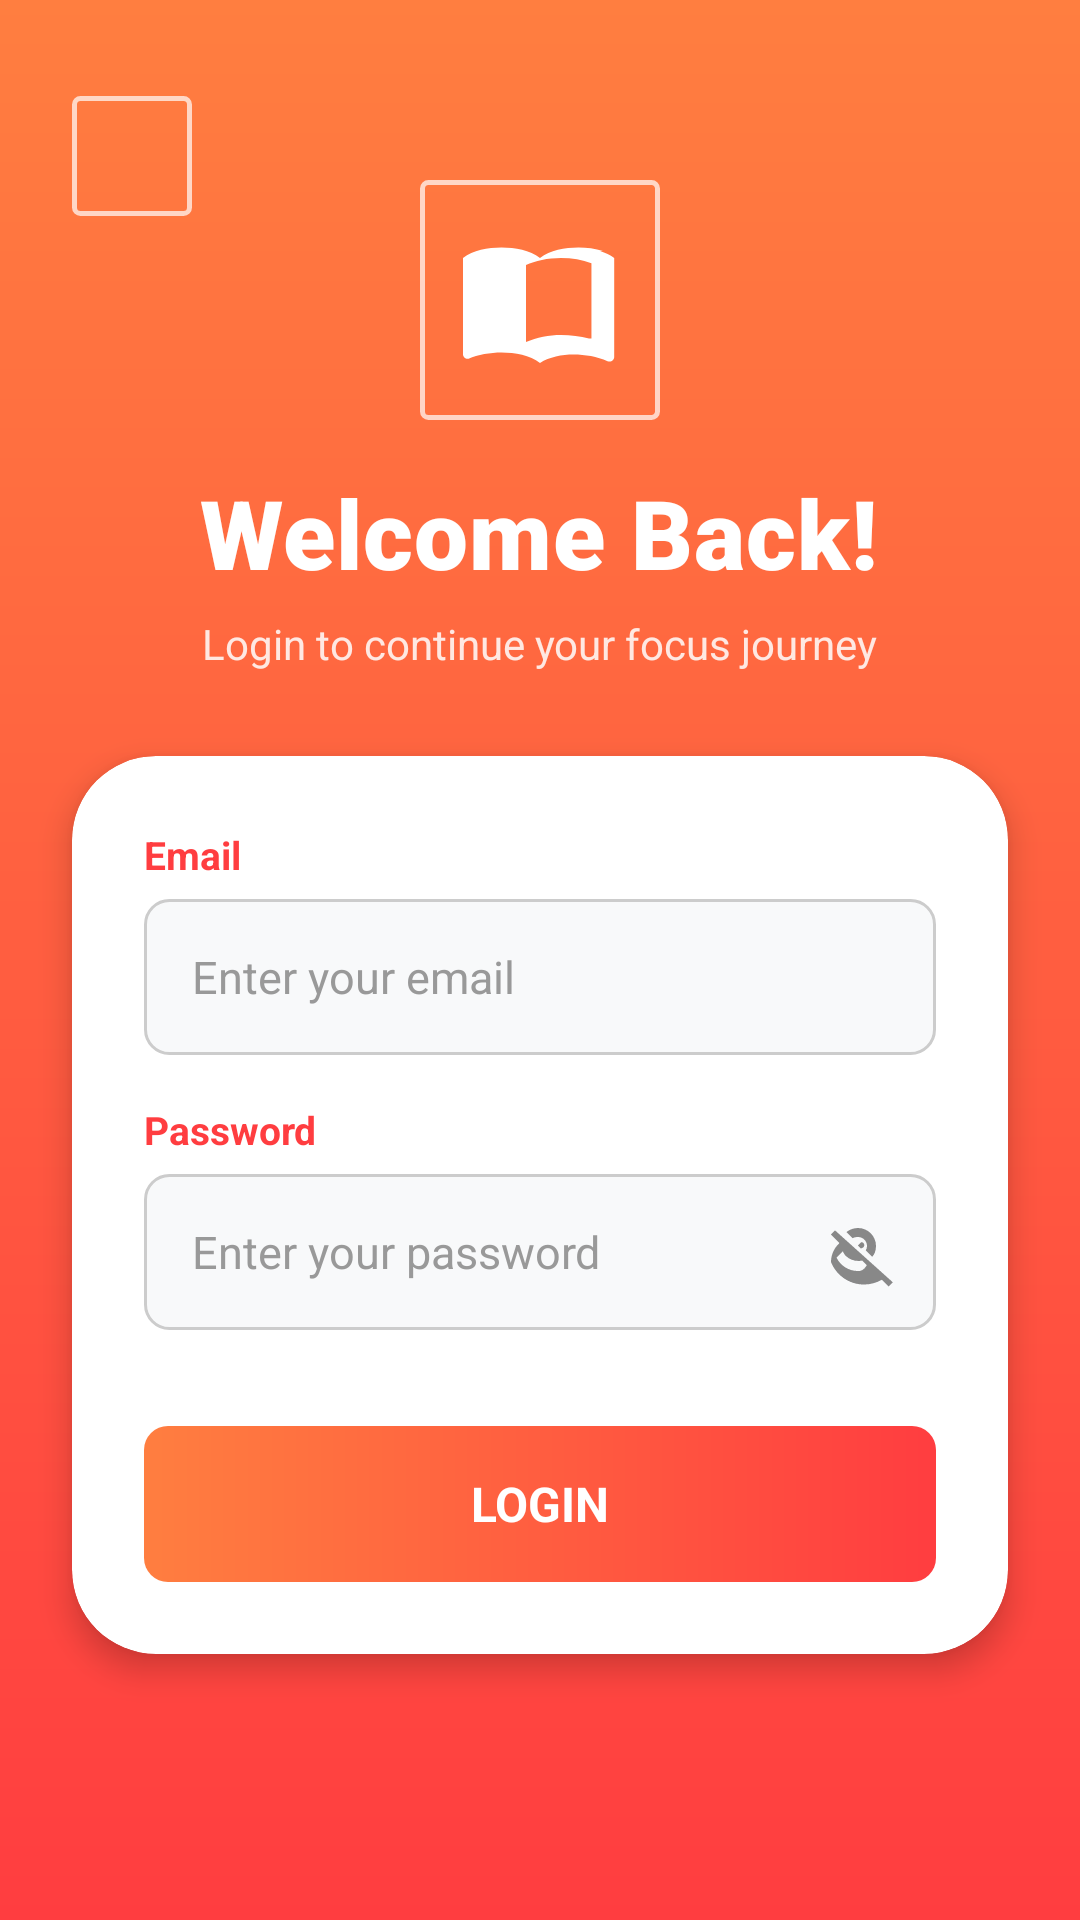

Named icons in this screenshot (1080 × 1920) and their centers, [x,y]:
Toggle Password Visibility: [862,1257]
